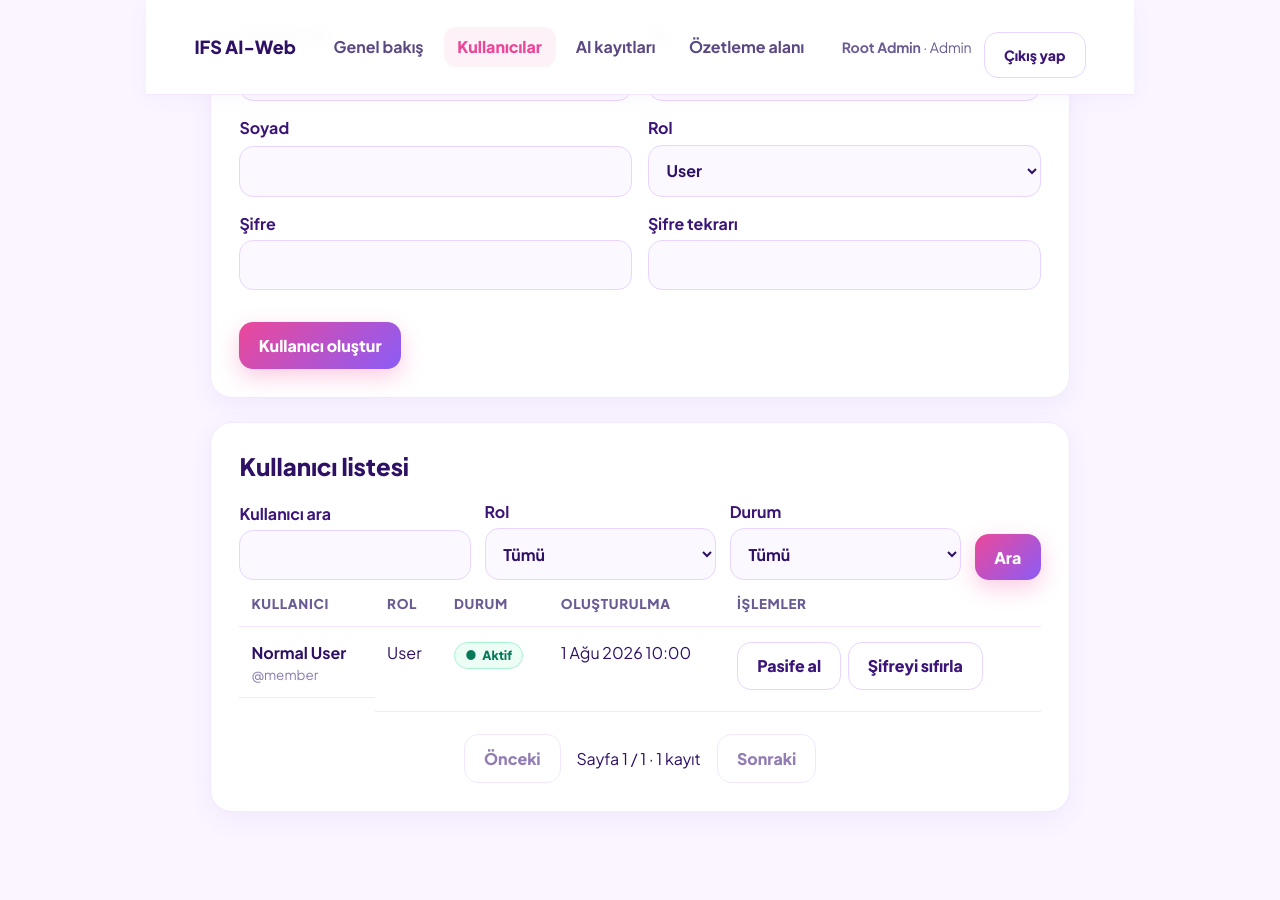
Test: admin user management › requires status confirmation, restores focus, and handles password reset 204 without current password
The width and height of the screenshot is (1280, 900).
(page scrolled)
expect the text "@member" is shown: met, box x1=251 y1=666 x2=318 y2=683
Click the button "Pasife al" at (789, 666), box x1=737 y1=642 x2=841 y2=690
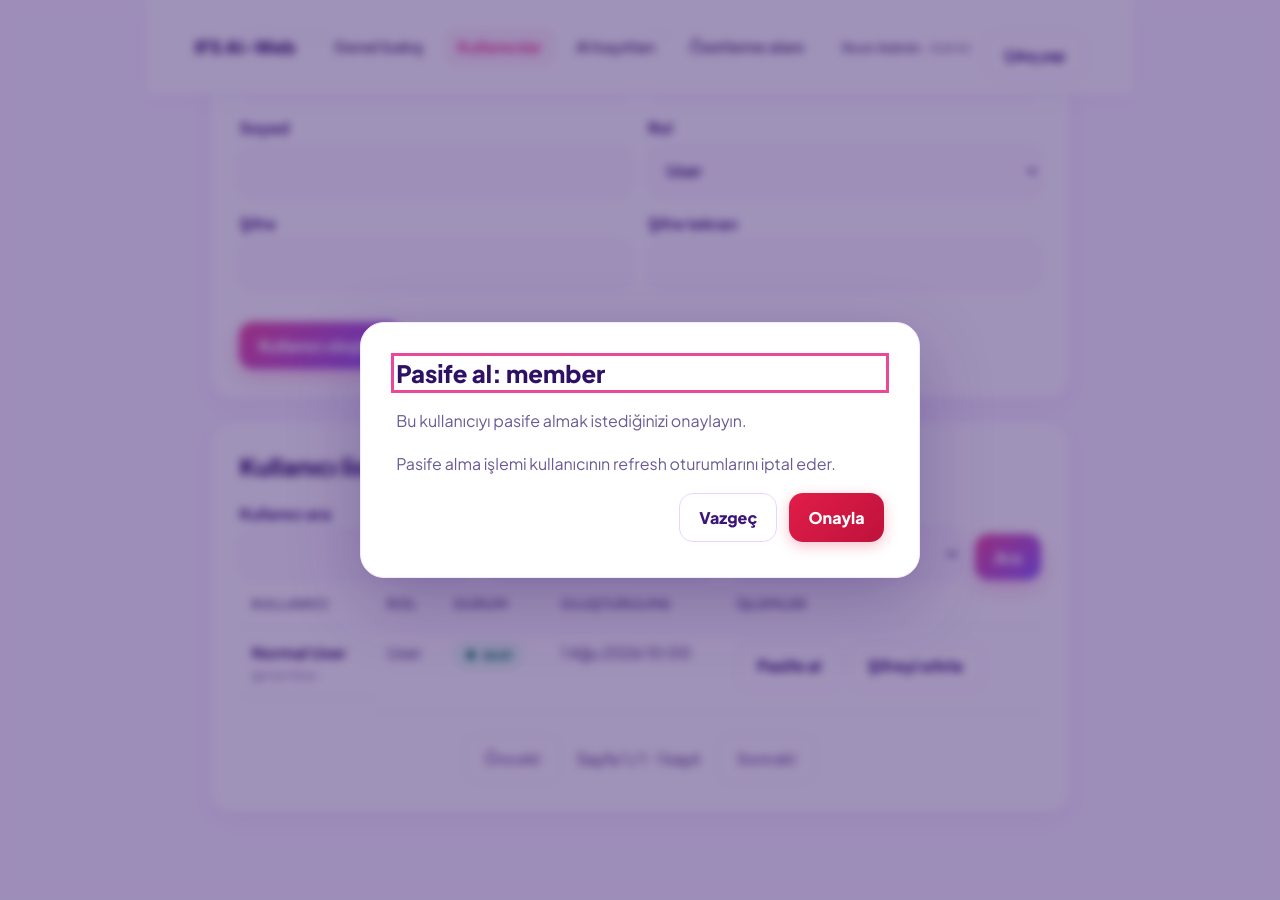
Click the button "Vazgeç" at (728, 517), box x1=679 y1=493 x2=777 y2=542
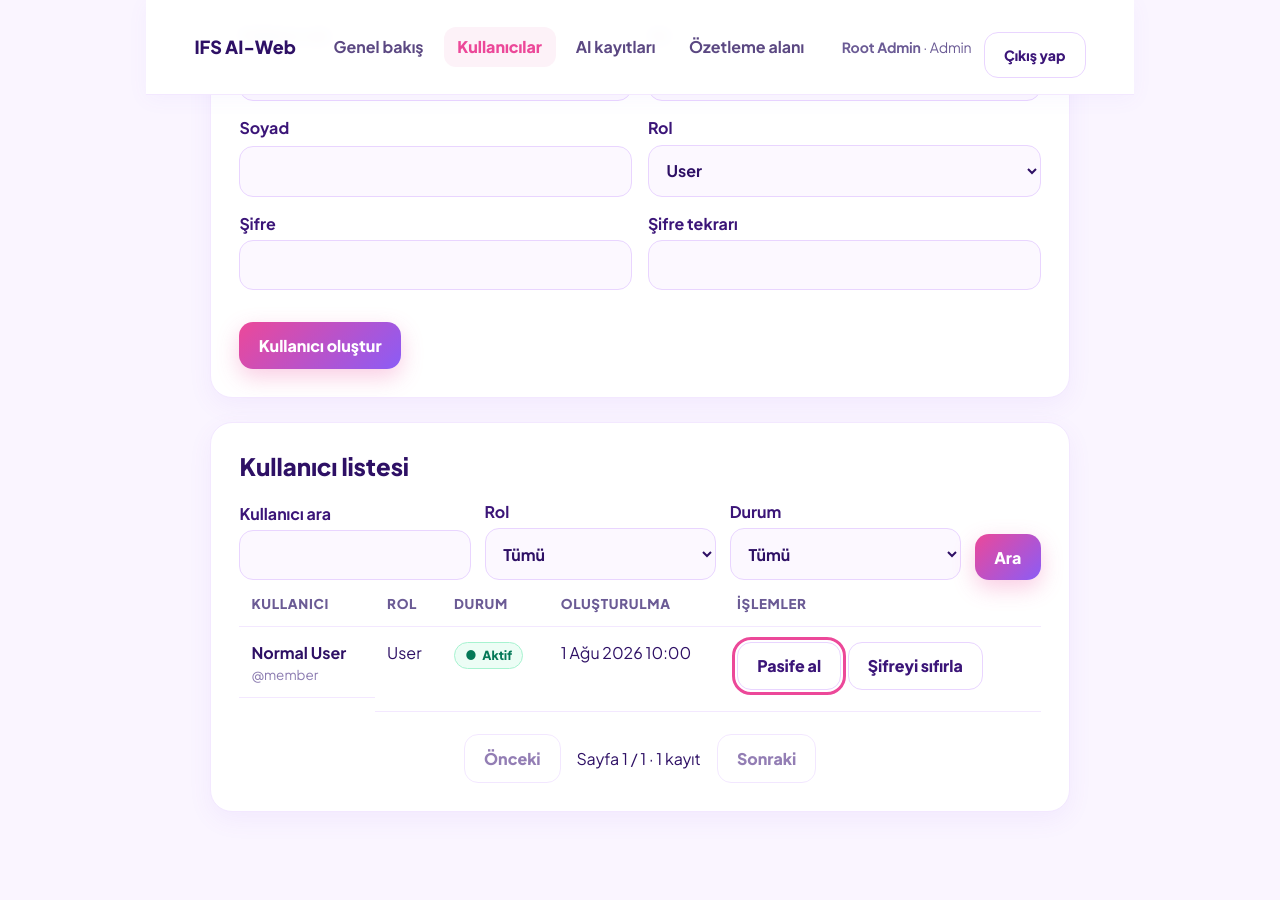
Click the button "Pasife al" at (789, 666), box x1=737 y1=642 x2=841 y2=690
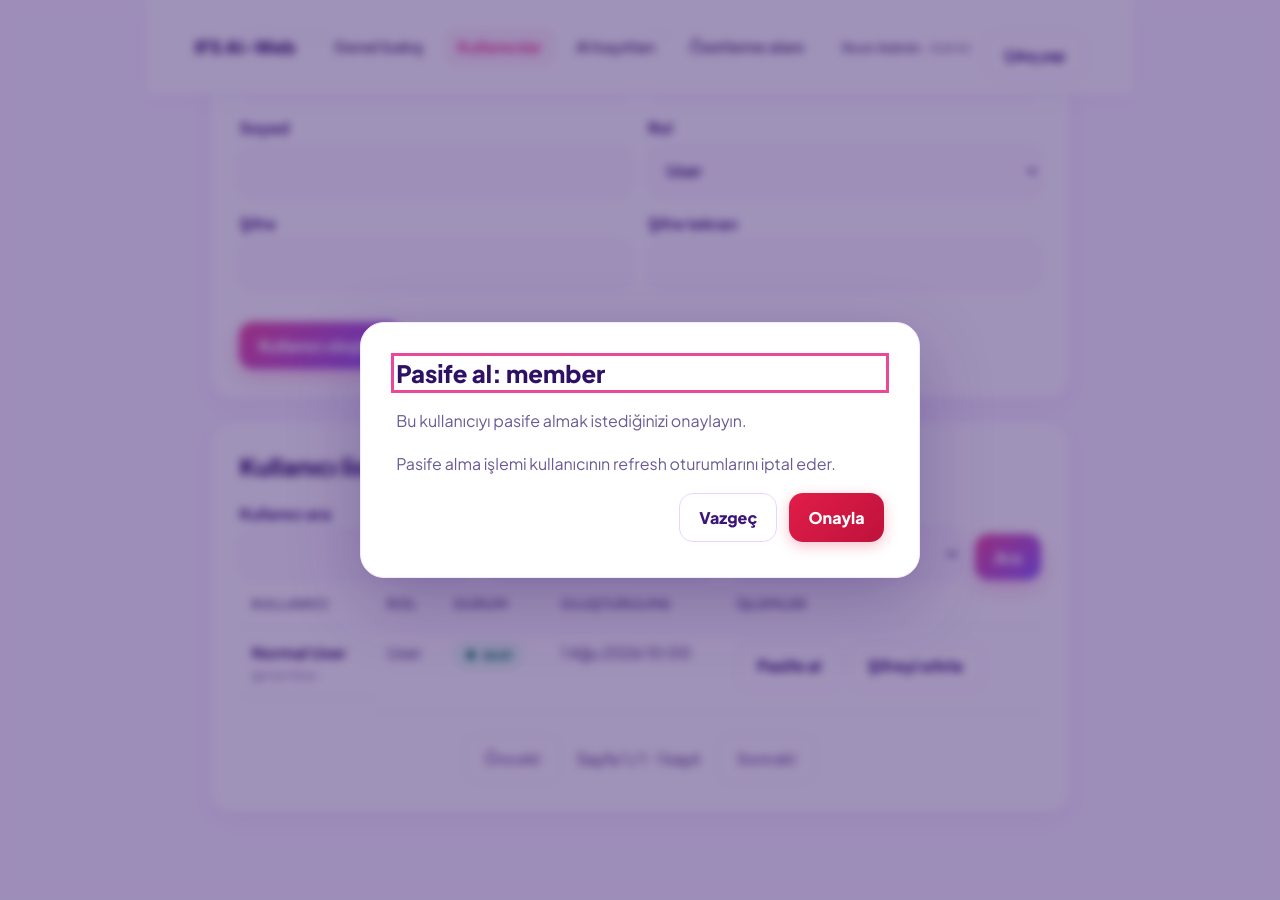
Click the button "Onayla" at (837, 517), box x1=789 y1=493 x2=884 y2=542
(page scrolled)
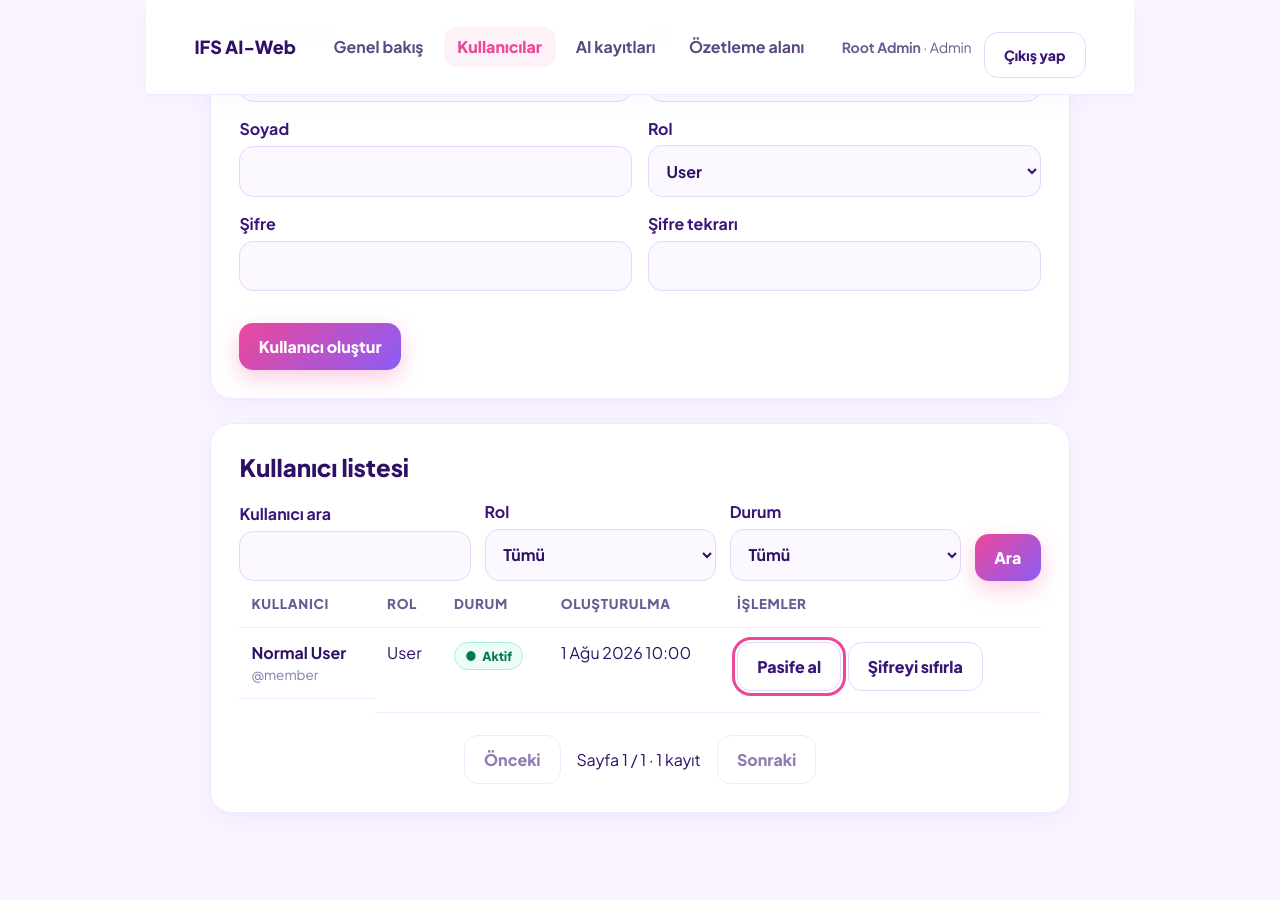
Click the button "Şifreyi sıfırla" at (915, 666), box x1=848 y1=642 x2=983 y2=691
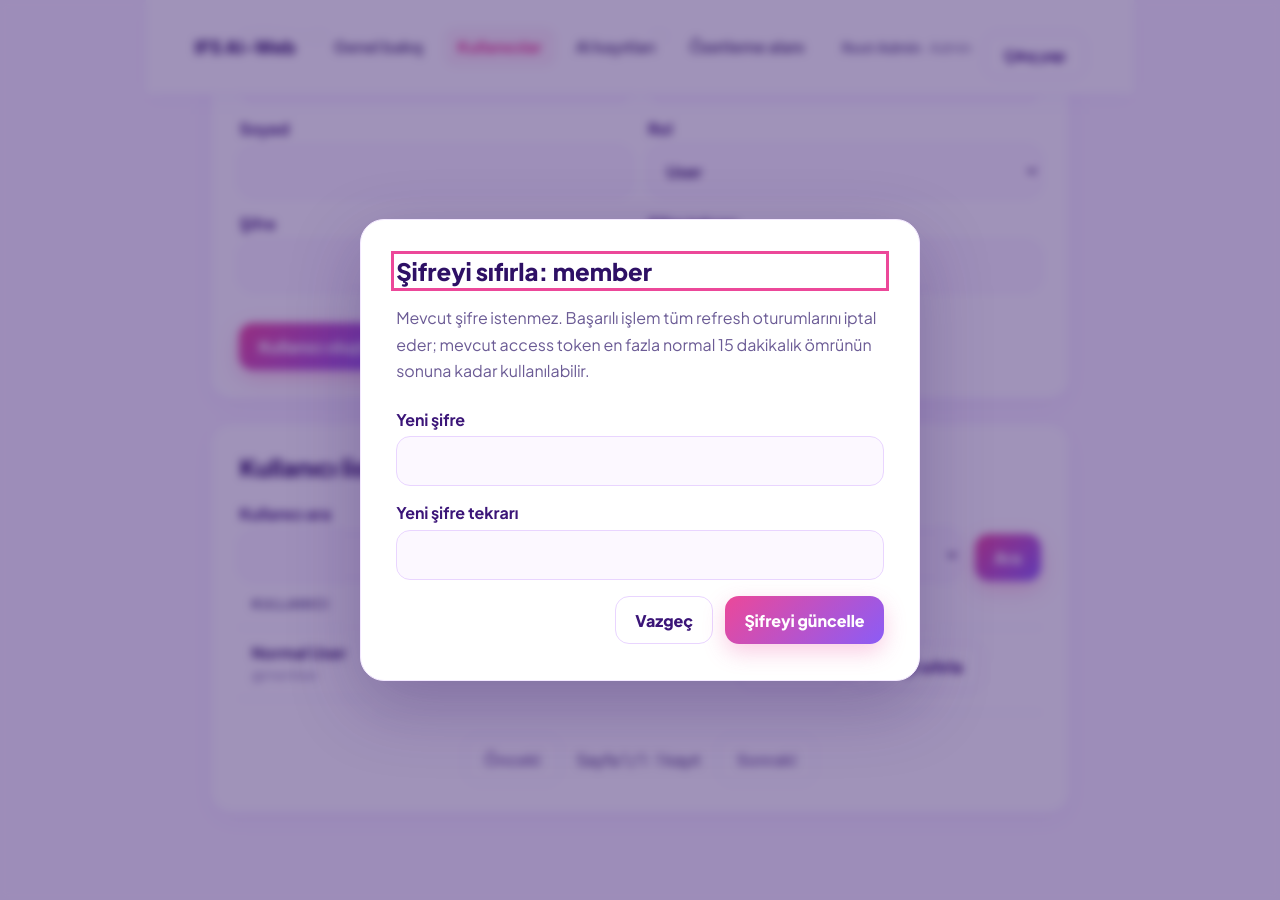
Type "Changed123!" into the password field labelled "Yeni şifre" at (640, 461), box x1=396 y1=436 x2=884 y2=486
Type "Changed123!" into the password field labelled "Yeni şifre tekrarı" at (640, 555), box x1=396 y1=530 x2=884 y2=580
Click the button "Şifreyi güncelle" at (805, 620), box x1=725 y1=596 x2=884 y2=644
(page scrolled)
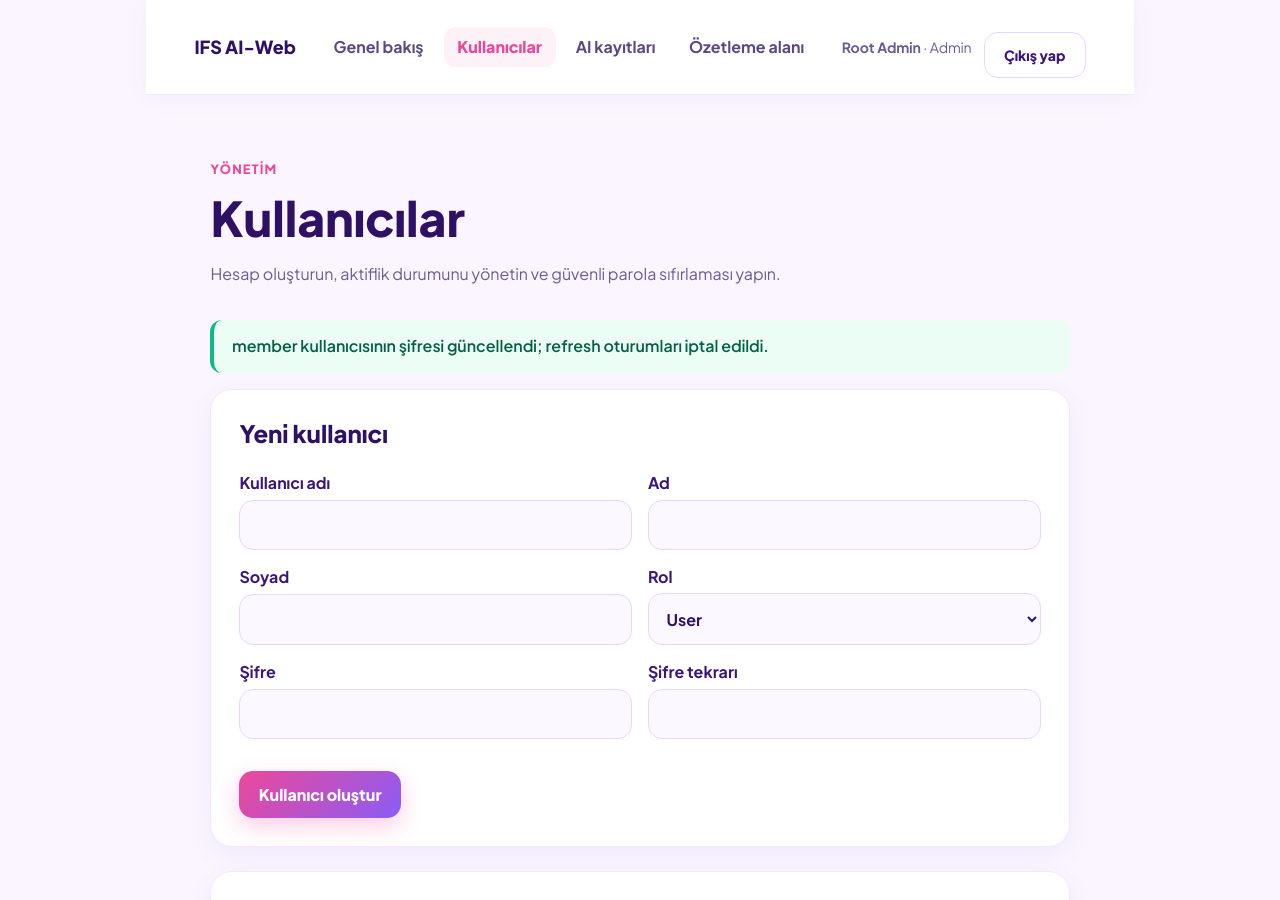
expect the text "member kullanıcısının şifresi güncellendi; refresh oturumları iptal edildi." is shown: met, box x1=210 y1=320 x2=1070 y2=373
